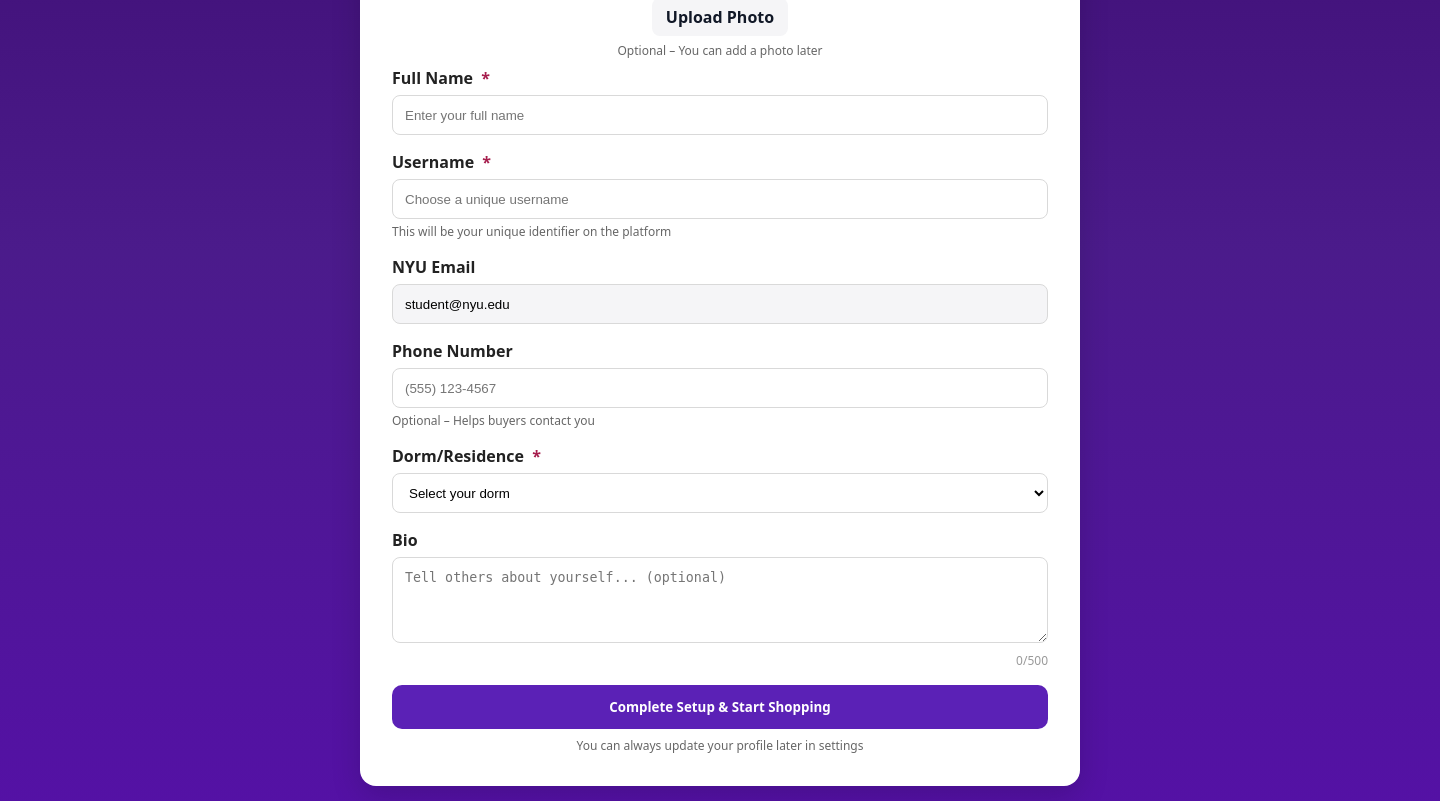
Test case: CreateProfile page › shows validation errors when required fields missing
This screenshot has width=1440, height=801.
(page scrolled)
Click the button "Complete Setup & Start Shopping" at (720, 707), box [392, 685, 1048, 729]
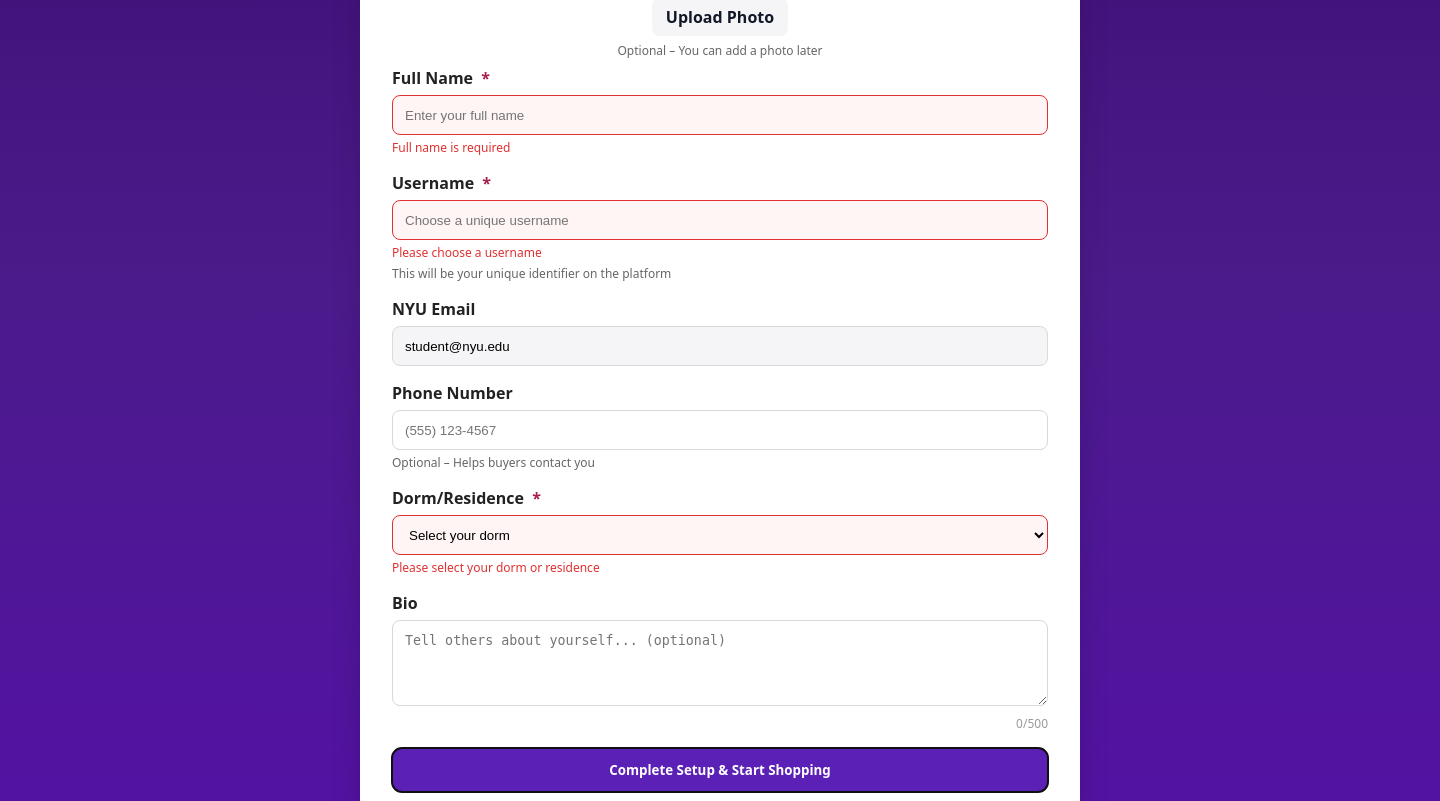
Expected: the text "Full name is required" is shown, [392, 139, 510, 156]
Expected: the text "Please choose a username" is shown, [392, 244, 542, 261]
Expected: the text "Please select your dorm or residence" is shown, [392, 559, 600, 576]
